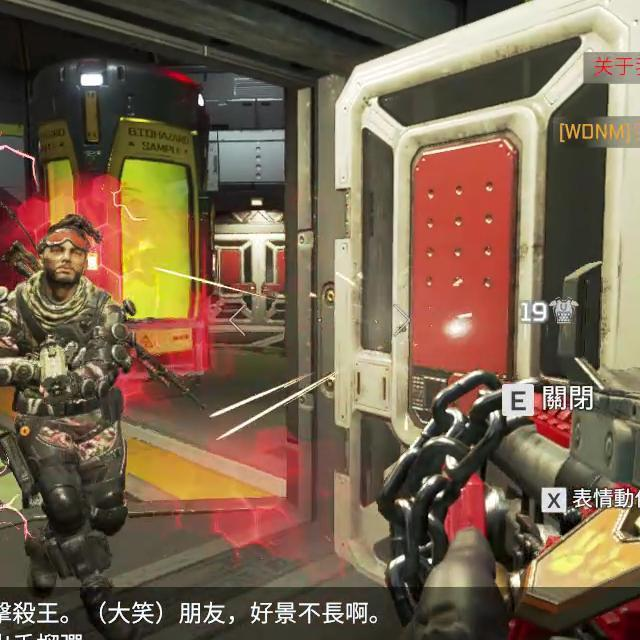avatar: (0, 212, 138, 587)
